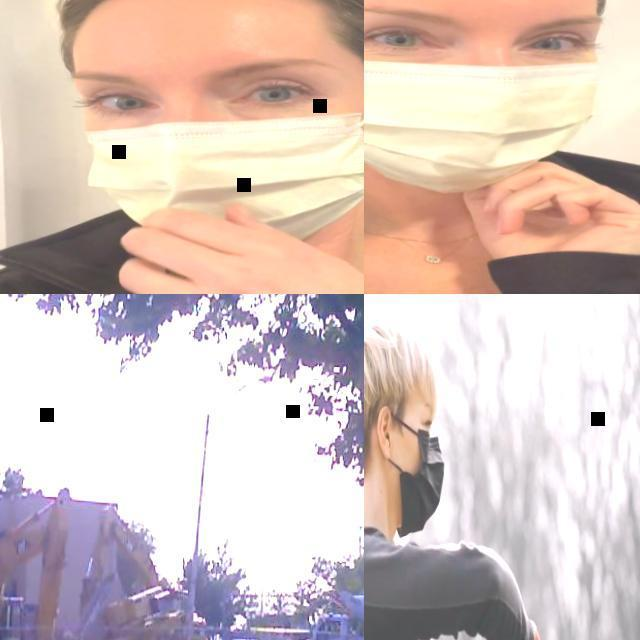no_helmet: (67, 0, 364, 44), (364, 317, 436, 407)
